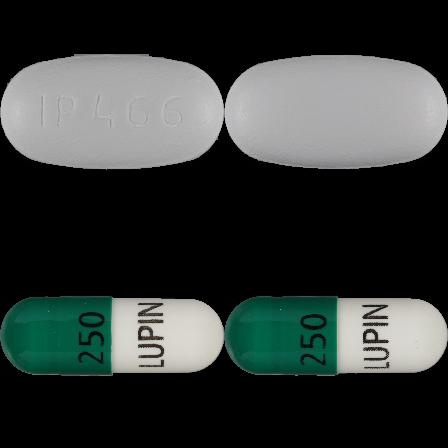50090-0066: (0, 0, 224, 224)
